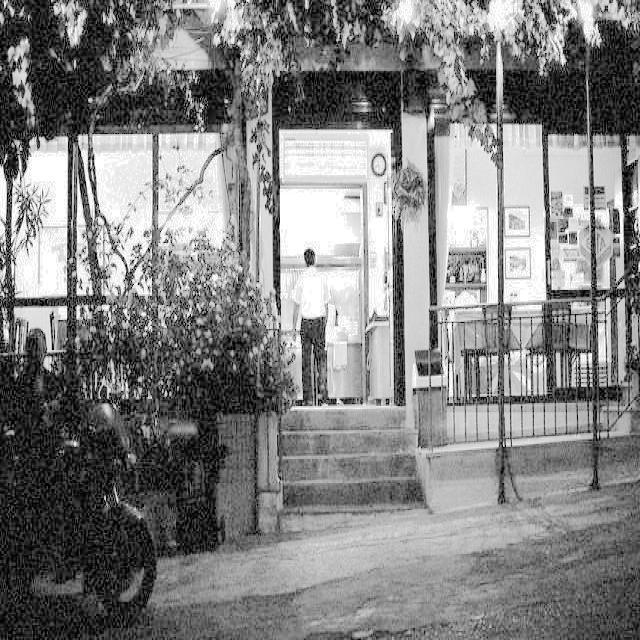Motorcycle: (2, 381, 163, 625)
Person: (10, 298, 80, 598), (291, 223, 340, 403)
